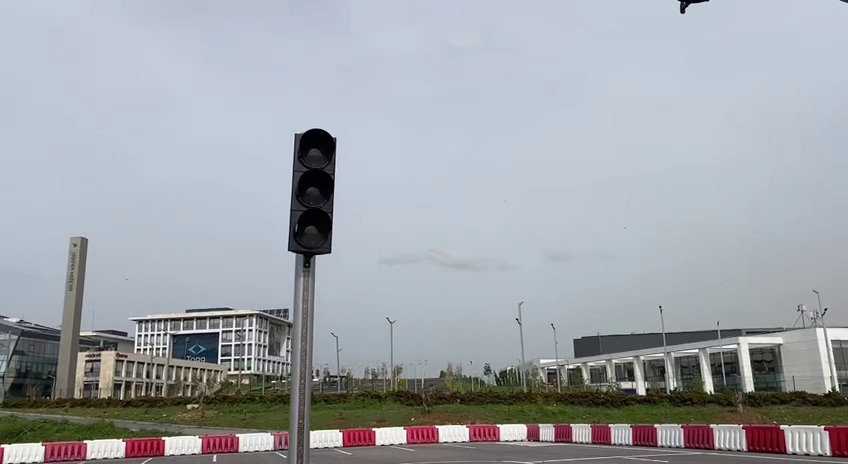trafficLight: (283, 121, 341, 263)
